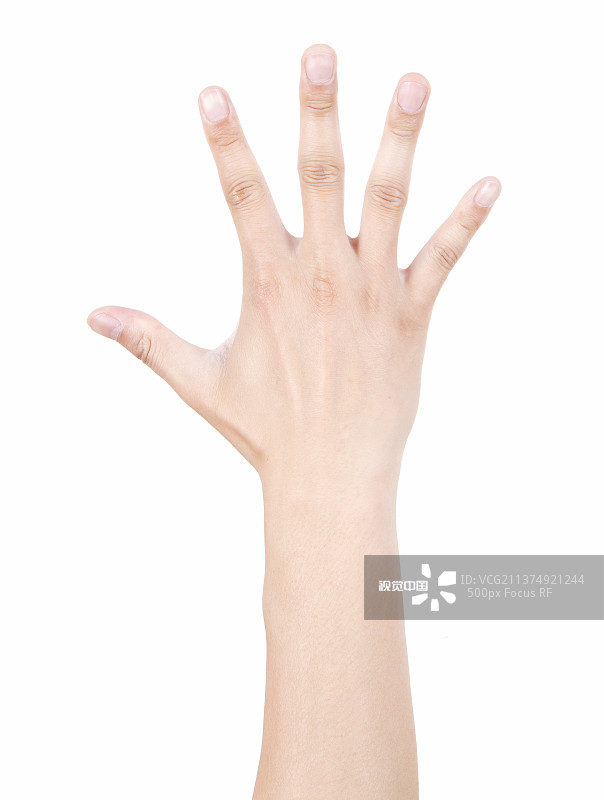no-phone: (68, 23, 518, 492)
